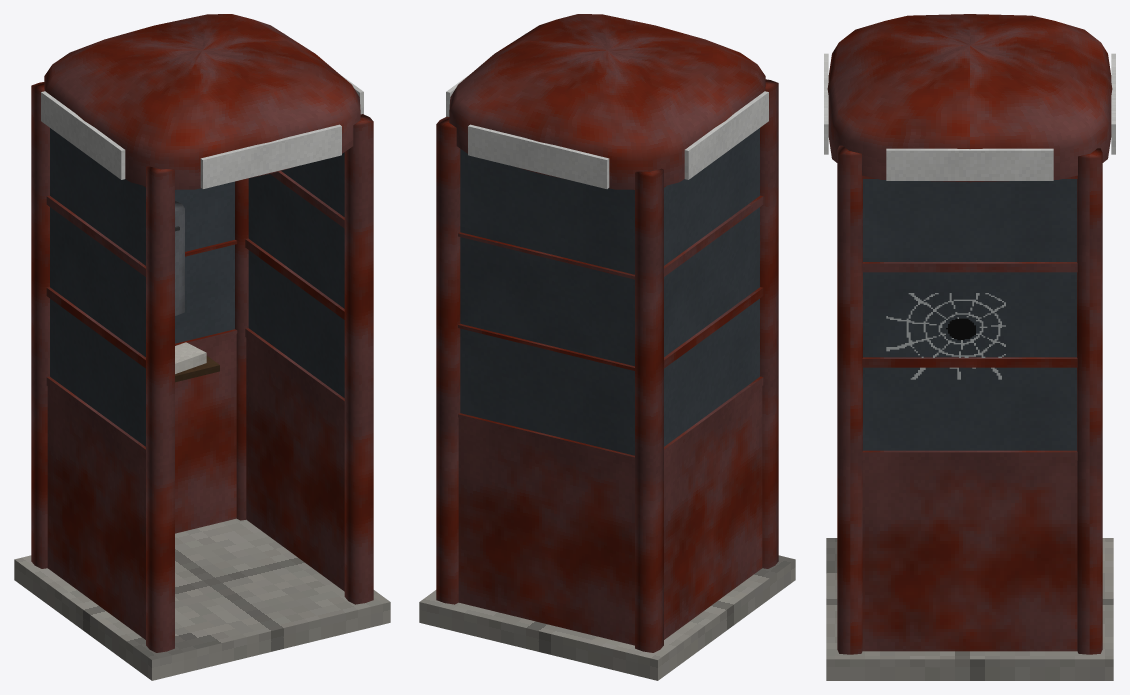
File: ext_phone_booth.glb
The picture shows the model from 3 angles, left to right: view 1: azimuth 30°, elevation 25°; view 2: azimuth 150°, elevation 25°; view 3: azimuth 270°, elevation 25°; orthographic projection. The views are drawn at different scales.
Visible parts, largest first — view 1: booth-col, detail; view 2: detail, booth-col; view 3: detail, booth-col.
Part boxes in pixels (x1=…): booth-col: x1=14, y1=82, x2=390, y2=680; detail: x1=41, y1=14, x2=363, y2=457; detail: x1=446, y1=14, x2=768, y2=460; booth-col: x1=419, y1=79, x2=795, y2=680; detail: x1=824, y1=14, x2=1115, y2=460; booth-col: x1=826, y1=145, x2=1113, y2=680.
Size of what is drawn, in the model's own units: 1.22 by 2.65 by 1.22.
Materials: 10 (10 with a texture image).
